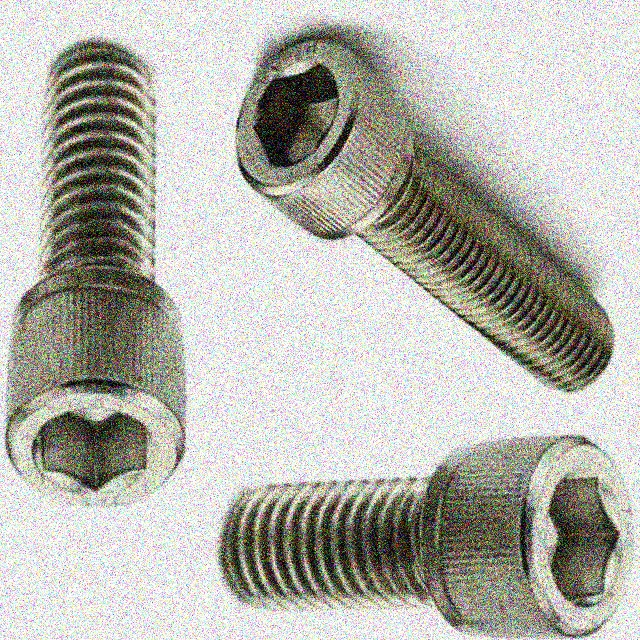allen: (512, 433, 640, 639), (4, 372, 193, 511), (235, 38, 366, 191)
